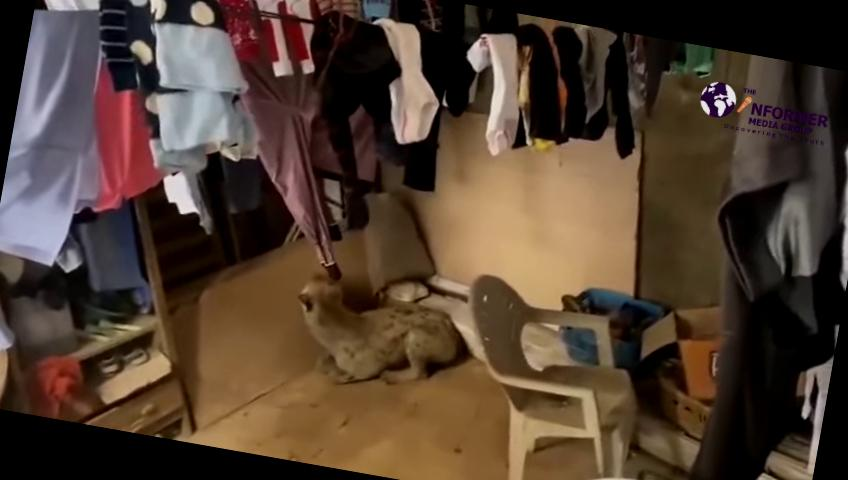hyenas: (235, 249, 482, 422)
